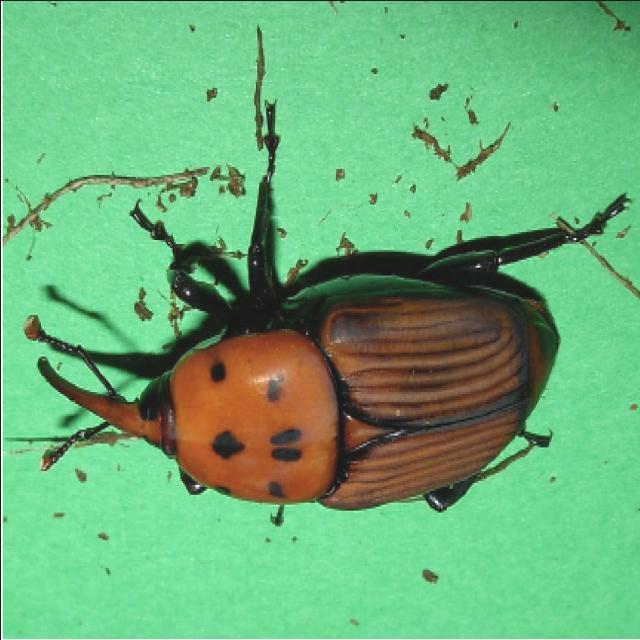Red-palm-weevil: (22, 257, 562, 515)
